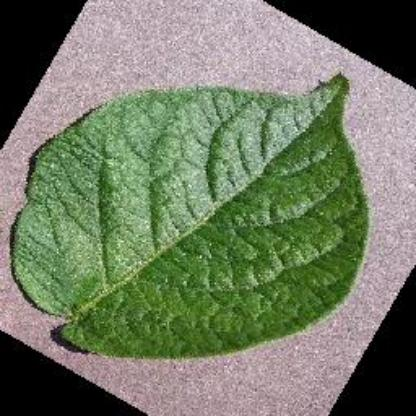Healthy-plant: (10, 63, 376, 361)
